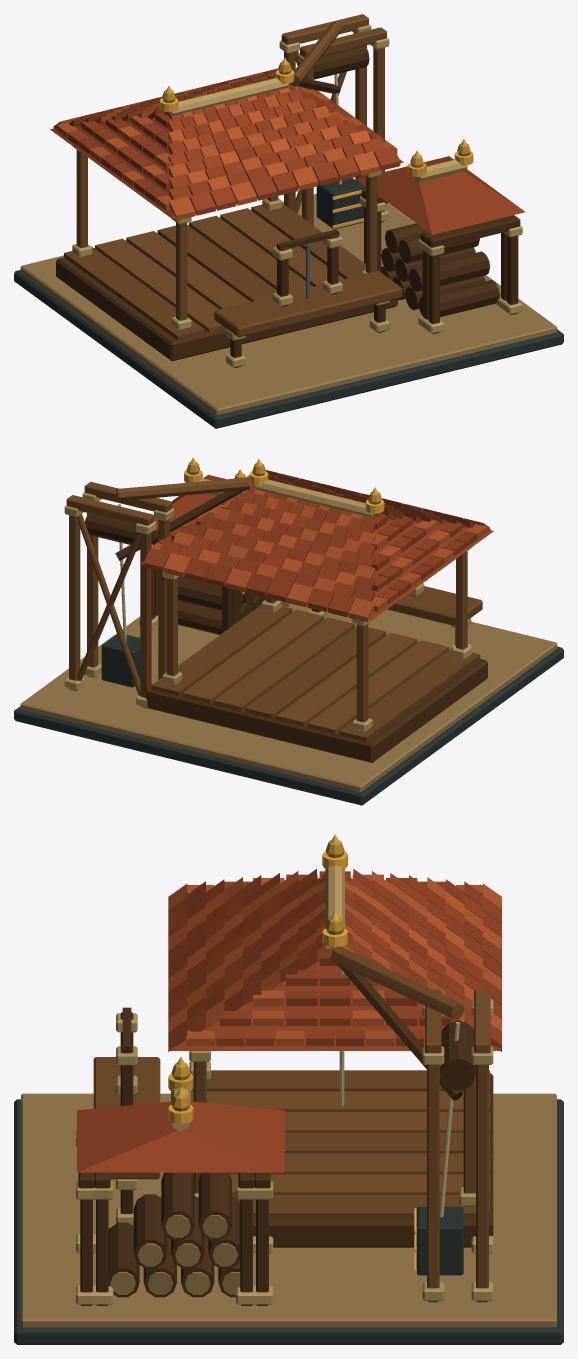
3 views of the same model, one above another, from view 1: azimuth 30°, elevation 25°; view 2: azimuth 150°, elevation 25°; view 3: azimuth 270°, elevation 25° (orthographic). The views are drawn at different scales.
Parts seen in each view (by area): view 1: lumber_6_structure, lumber_6_metal; view 2: lumber_6_structure, lumber_6_metal; view 3: lumber_6_structure, lumber_6_metal.
Part boxes in pixels (left/top/right/bottom): lumber_6_structure: left=14, top=14, right=563, bottom=428; lumber_6_metal: left=159, top=57, right=473, bottom=228; lumber_6_structure: left=14, top=462, right=563, bottom=805; lumber_6_metal: left=151, top=457, right=384, bottom=673; lumber_6_structure: left=14, top=840, right=563, bottom=1344; lumber_6_metal: left=168, top=834, right=416, bottom=1273.
Size of the model in its own units: 5.6 by 3.68 by 5.6.
